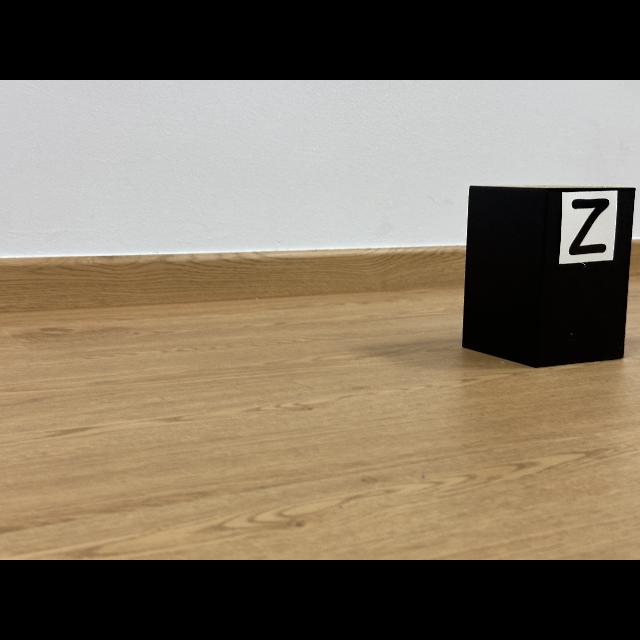Z: (569, 199, 609, 255)
